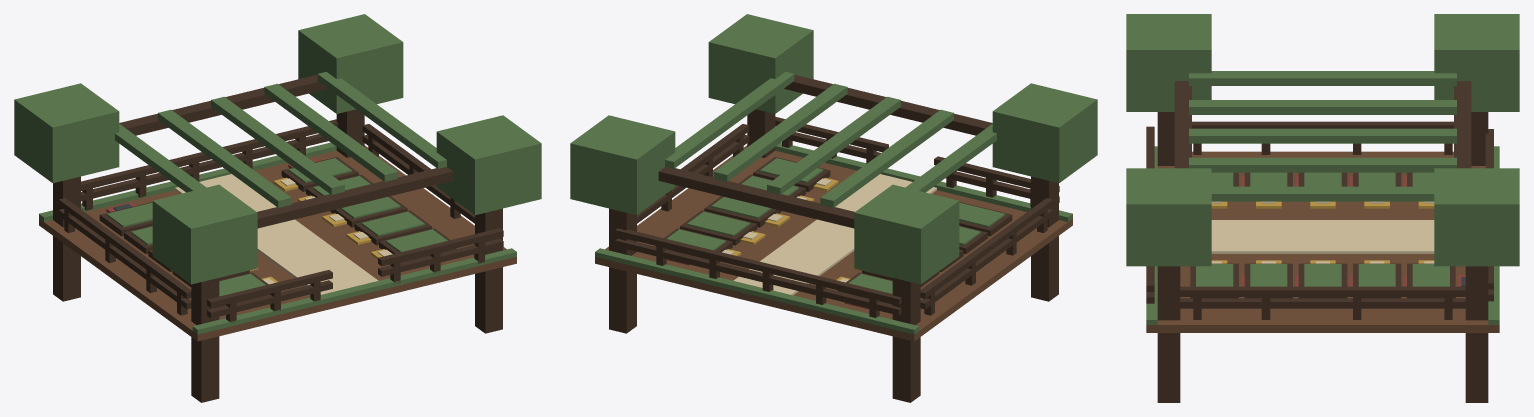
File: KLC_ForestPlot_Floor03.fbx
The picture shows the model from 3 angles, left to right: view 1: azimuth 30°, elevation 25°; view 2: azimuth 150°, elevation 25°; view 3: azimuth 270°, elevation 25°; orthographic projection. The views are drawn at different scales.
Parts seen in each view (by area): view 1: F03_MainDeck, F03_TreeLeaves_1, F03_TreeLeaves_0, F03_TreeLeaves_3, F03_TreeLeaves_2, F03_CenterPath, F03_RoofBack, F03_GrassRimBack, F03_RoofSlat_1, F03_RoofSlat_2, F03_RoofSlat_3, F03_RoofSlat_4 (+30 smaller); view 2: F03_MainDeck, F03_TreeLeaves_0, F03_TreeLeaves_1, F03_TreeLeaves_2, F03_TreeLeaves_3, F03_CenterPath, F03_RoofFront, F03_GrassRimFront, F03_FenceFrontTop, F03_FenceFrontLow, F03_RoofSlat_1, F03_RoofSlat_2 (+30 smaller); view 3: F03_MainDeck, F03_TreeLeaves_2, F03_TreeLeaves_3, F03_CenterPath, F03_TreeLeaves_0, F03_TreeLeaves_1, F03_RoofSlat_2, F03_RoofSlat_3, F03_RoofSlat_1, F03_RoofSlat_0, F03_RoofSlat_4, F03_FenceRightTop (+27 smaller).
Boxes of the visible parts, x1=… form: F03_MainDeck: x1=39, y1=145, x2=516, y2=341; F03_TreeLeaves_1: x1=152, y1=184, x2=257, y2=284; F03_TreeLeaves_0: x1=14, y1=83, x2=119, y2=183; F03_TreeLeaves_3: x1=436, y1=115, x2=541, y2=215; F03_TreeLeaves_2: x1=298, y1=14, x2=403, y2=113; F03_CenterPath: x1=175, y1=174, x2=378, y2=294; F03_RoofBack: x1=257, y1=167, x2=453, y2=228; F03_GrassRimBack: x1=192, y1=248, x2=516, y2=334; F03_RoofSlat_1: x1=158, y1=109, x2=291, y2=207; F03_RoofSlat_2: x1=211, y1=96, x2=344, y2=194; F03_RoofSlat_3: x1=264, y1=83, x2=397, y2=181; F03_RoofSlat_4: x1=317, y1=72, x2=446, y2=168; F03_MainDeck: x1=595, y1=145, x2=1072, y2=341; F03_TreeLeaves_0: x1=854, y1=184, x2=959, y2=284; F03_TreeLeaves_1: x1=992, y1=83, x2=1097, y2=183; F03_TreeLeaves_2: x1=570, y1=115, x2=675, y2=215; F03_TreeLeaves_3: x1=708, y1=14, x2=813, y2=113; F03_CenterPath: x1=733, y1=174, x2=936, y2=295; F03_RoofFront: x1=658, y1=167, x2=854, y2=228; F03_GrassRimFront: x1=595, y1=248, x2=919, y2=334; F03_FenceFrontTop: x1=615, y1=228, x2=901, y2=304; F03_FenceFrontLow: x1=615, y1=239, x2=901, y2=315; F03_RoofSlat_1: x1=820, y1=109, x2=953, y2=207; F03_RoofSlat_2: x1=767, y1=96, x2=900, y2=194; F03_MainDeck: x1=1146, y1=151, x2=1499, y2=332; F03_TreeLeaves_2: x1=1434, y1=168, x2=1519, y2=266; F03_TreeLeaves_3: x1=1126, y1=168, x2=1211, y2=266; F03_CenterPath: x1=1211, y1=220, x2=1434, y2=253; F03_TreeLeaves_0: x1=1434, y1=14, x2=1519, y2=111; F03_TreeLeaves_1: x1=1126, y1=14, x2=1211, y2=111; F03_RoofSlat_2: x1=1189, y1=128, x2=1456, y2=143; F03_RoofSlat_3: x1=1189, y1=157, x2=1456, y2=172; F03_RoofSlat_1: x1=1189, y1=100, x2=1456, y2=114; F03_RoofSlat_0: x1=1189, y1=71, x2=1456, y2=85; F03_RoofSlat_4: x1=1211, y1=186, x2=1434, y2=201; F03_FenceRightTop: x1=1180, y1=286, x2=1465, y2=296.
Size of the model in its own units: 1975 by 1025 by 1725.
7 materials, 7 textured.
